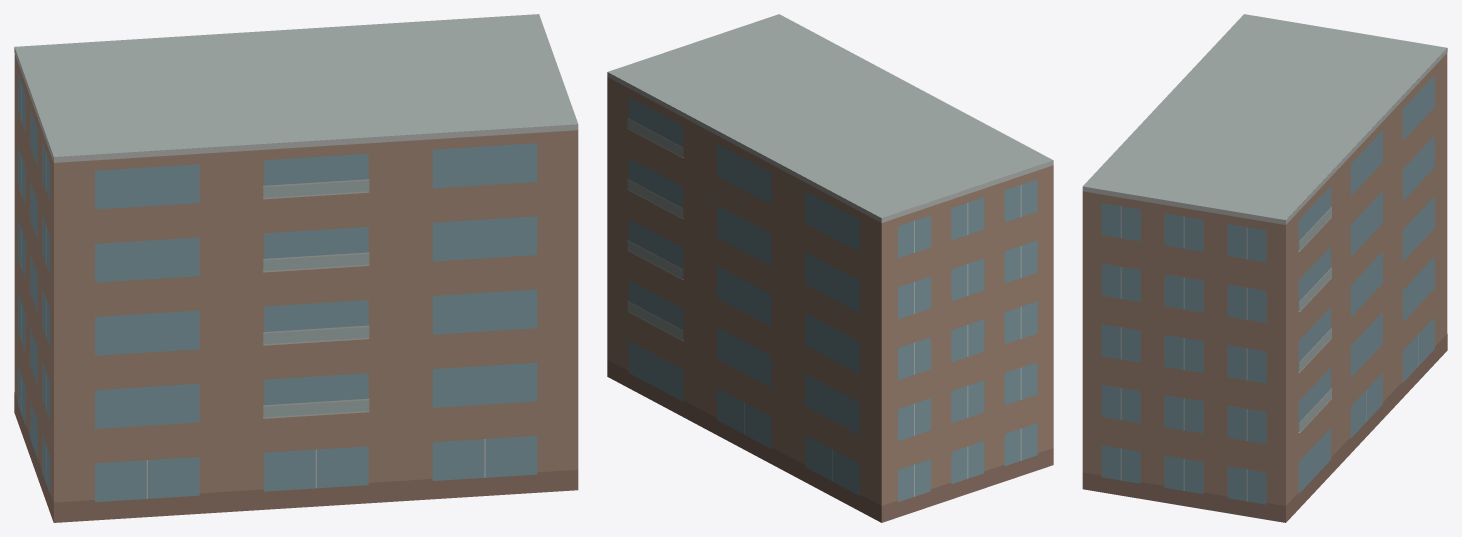
The model's file is survey-upis-32612630.glb.
The picture shows the model from 3 angles, left to right: view 1: azimuth 30°, elevation 25°; view 2: azimuth 150°, elevation 25°; view 3: azimuth 270°, elevation 25°; orthographic projection. The views are drawn at different scales.
Visible parts, largest first — view 1: survey-upis-32612630.tmp; view 2: survey-upis-32612630.tmp; view 3: survey-upis-32612630.tmp.
Boxes of the visible parts, x1=… form: survey-upis-32612630.tmp: x1=14, y1=14, x2=578, y2=522; survey-upis-32612630.tmp: x1=607, y1=14, x2=1053, y2=522; survey-upis-32612630.tmp: x1=1082, y1=14, x2=1447, y2=522.
Size of the model in its own units: 22.29 by 15.25 by 16.67.
